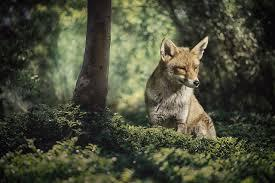Non_Gorille: (114, 10, 243, 155)
